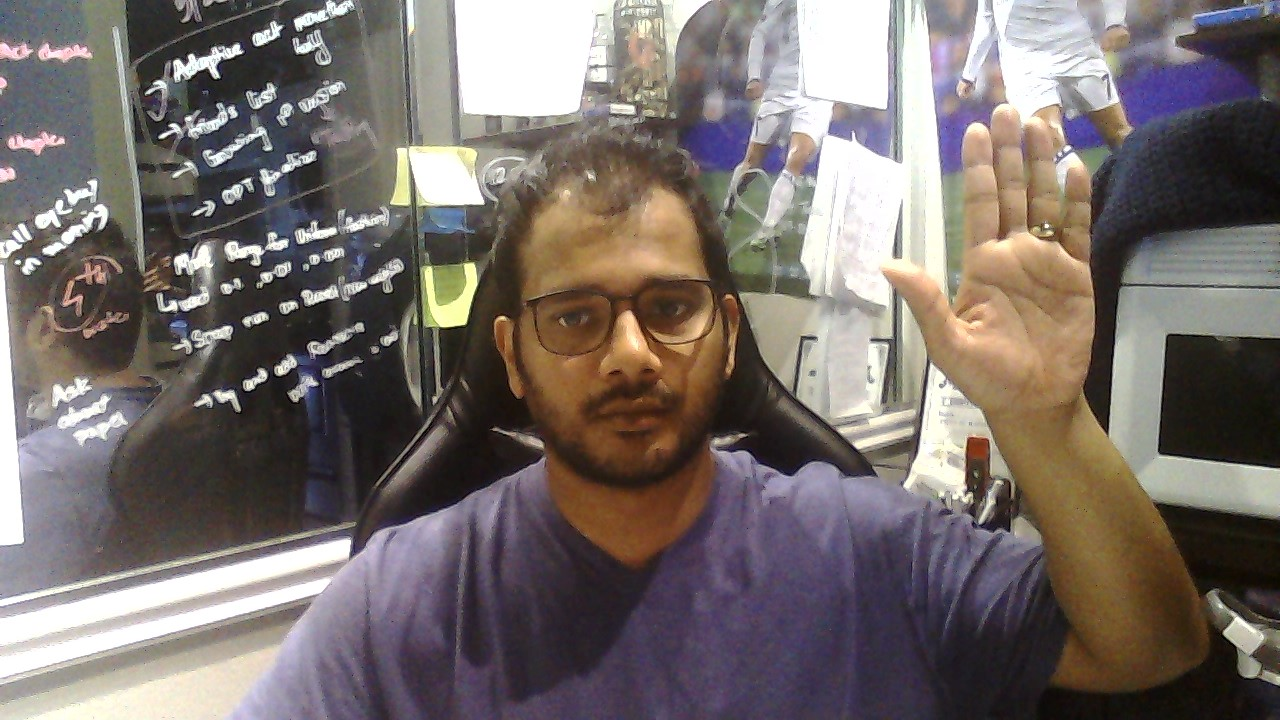Hello: (880, 103, 1095, 410)
